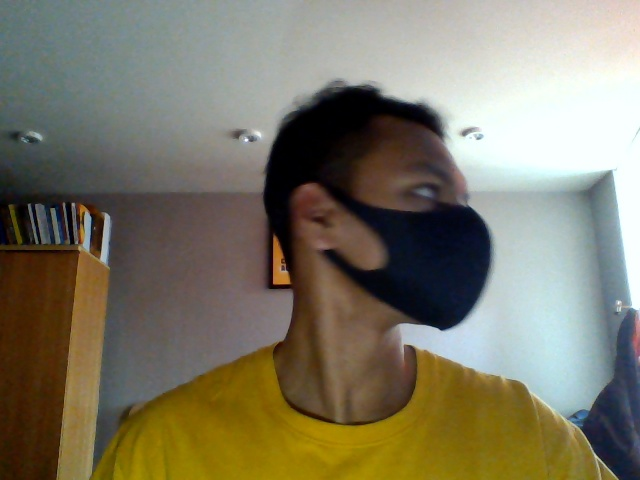mask: (351, 193, 497, 333)
